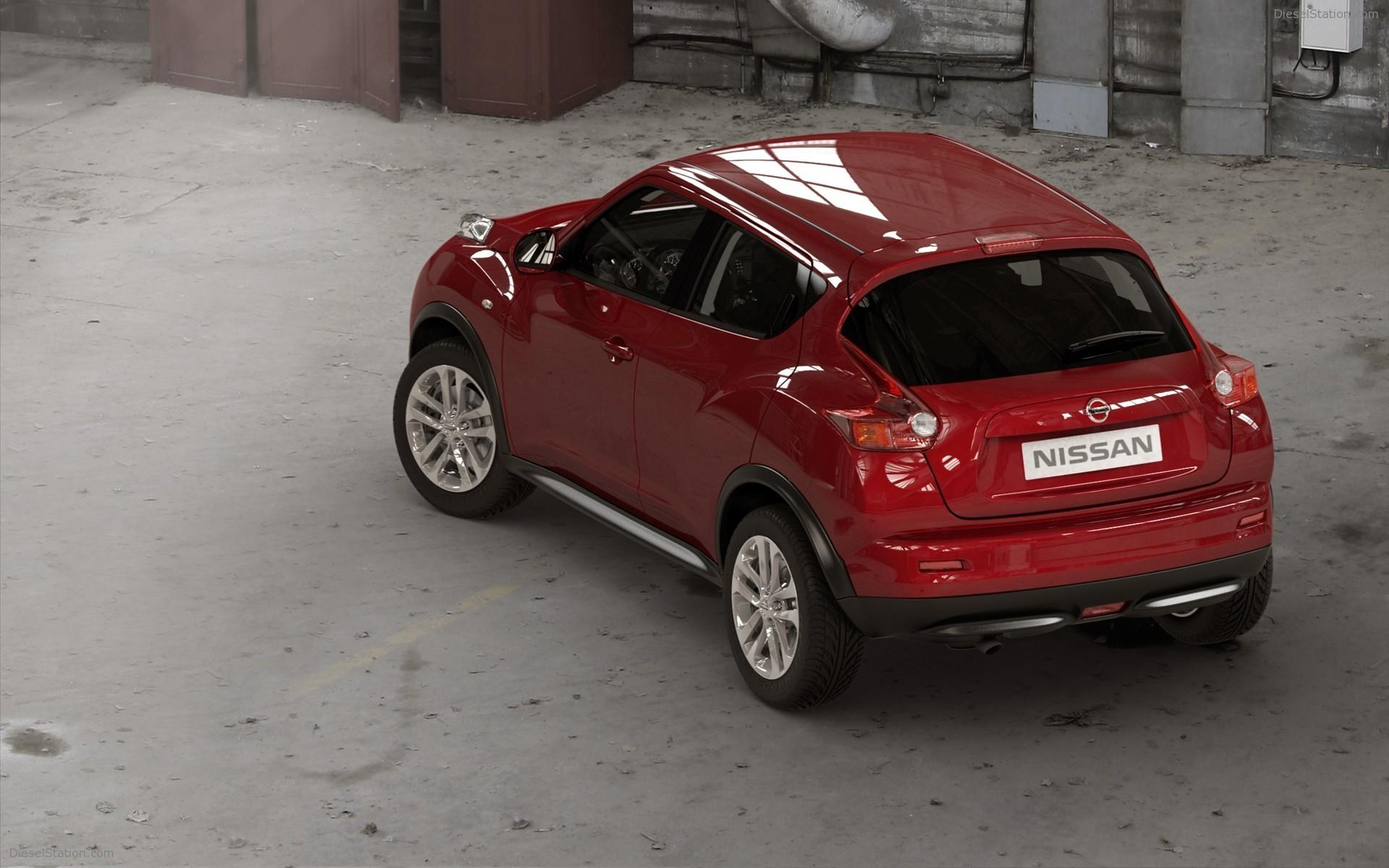Hatchback: (391, 128, 1277, 712)
